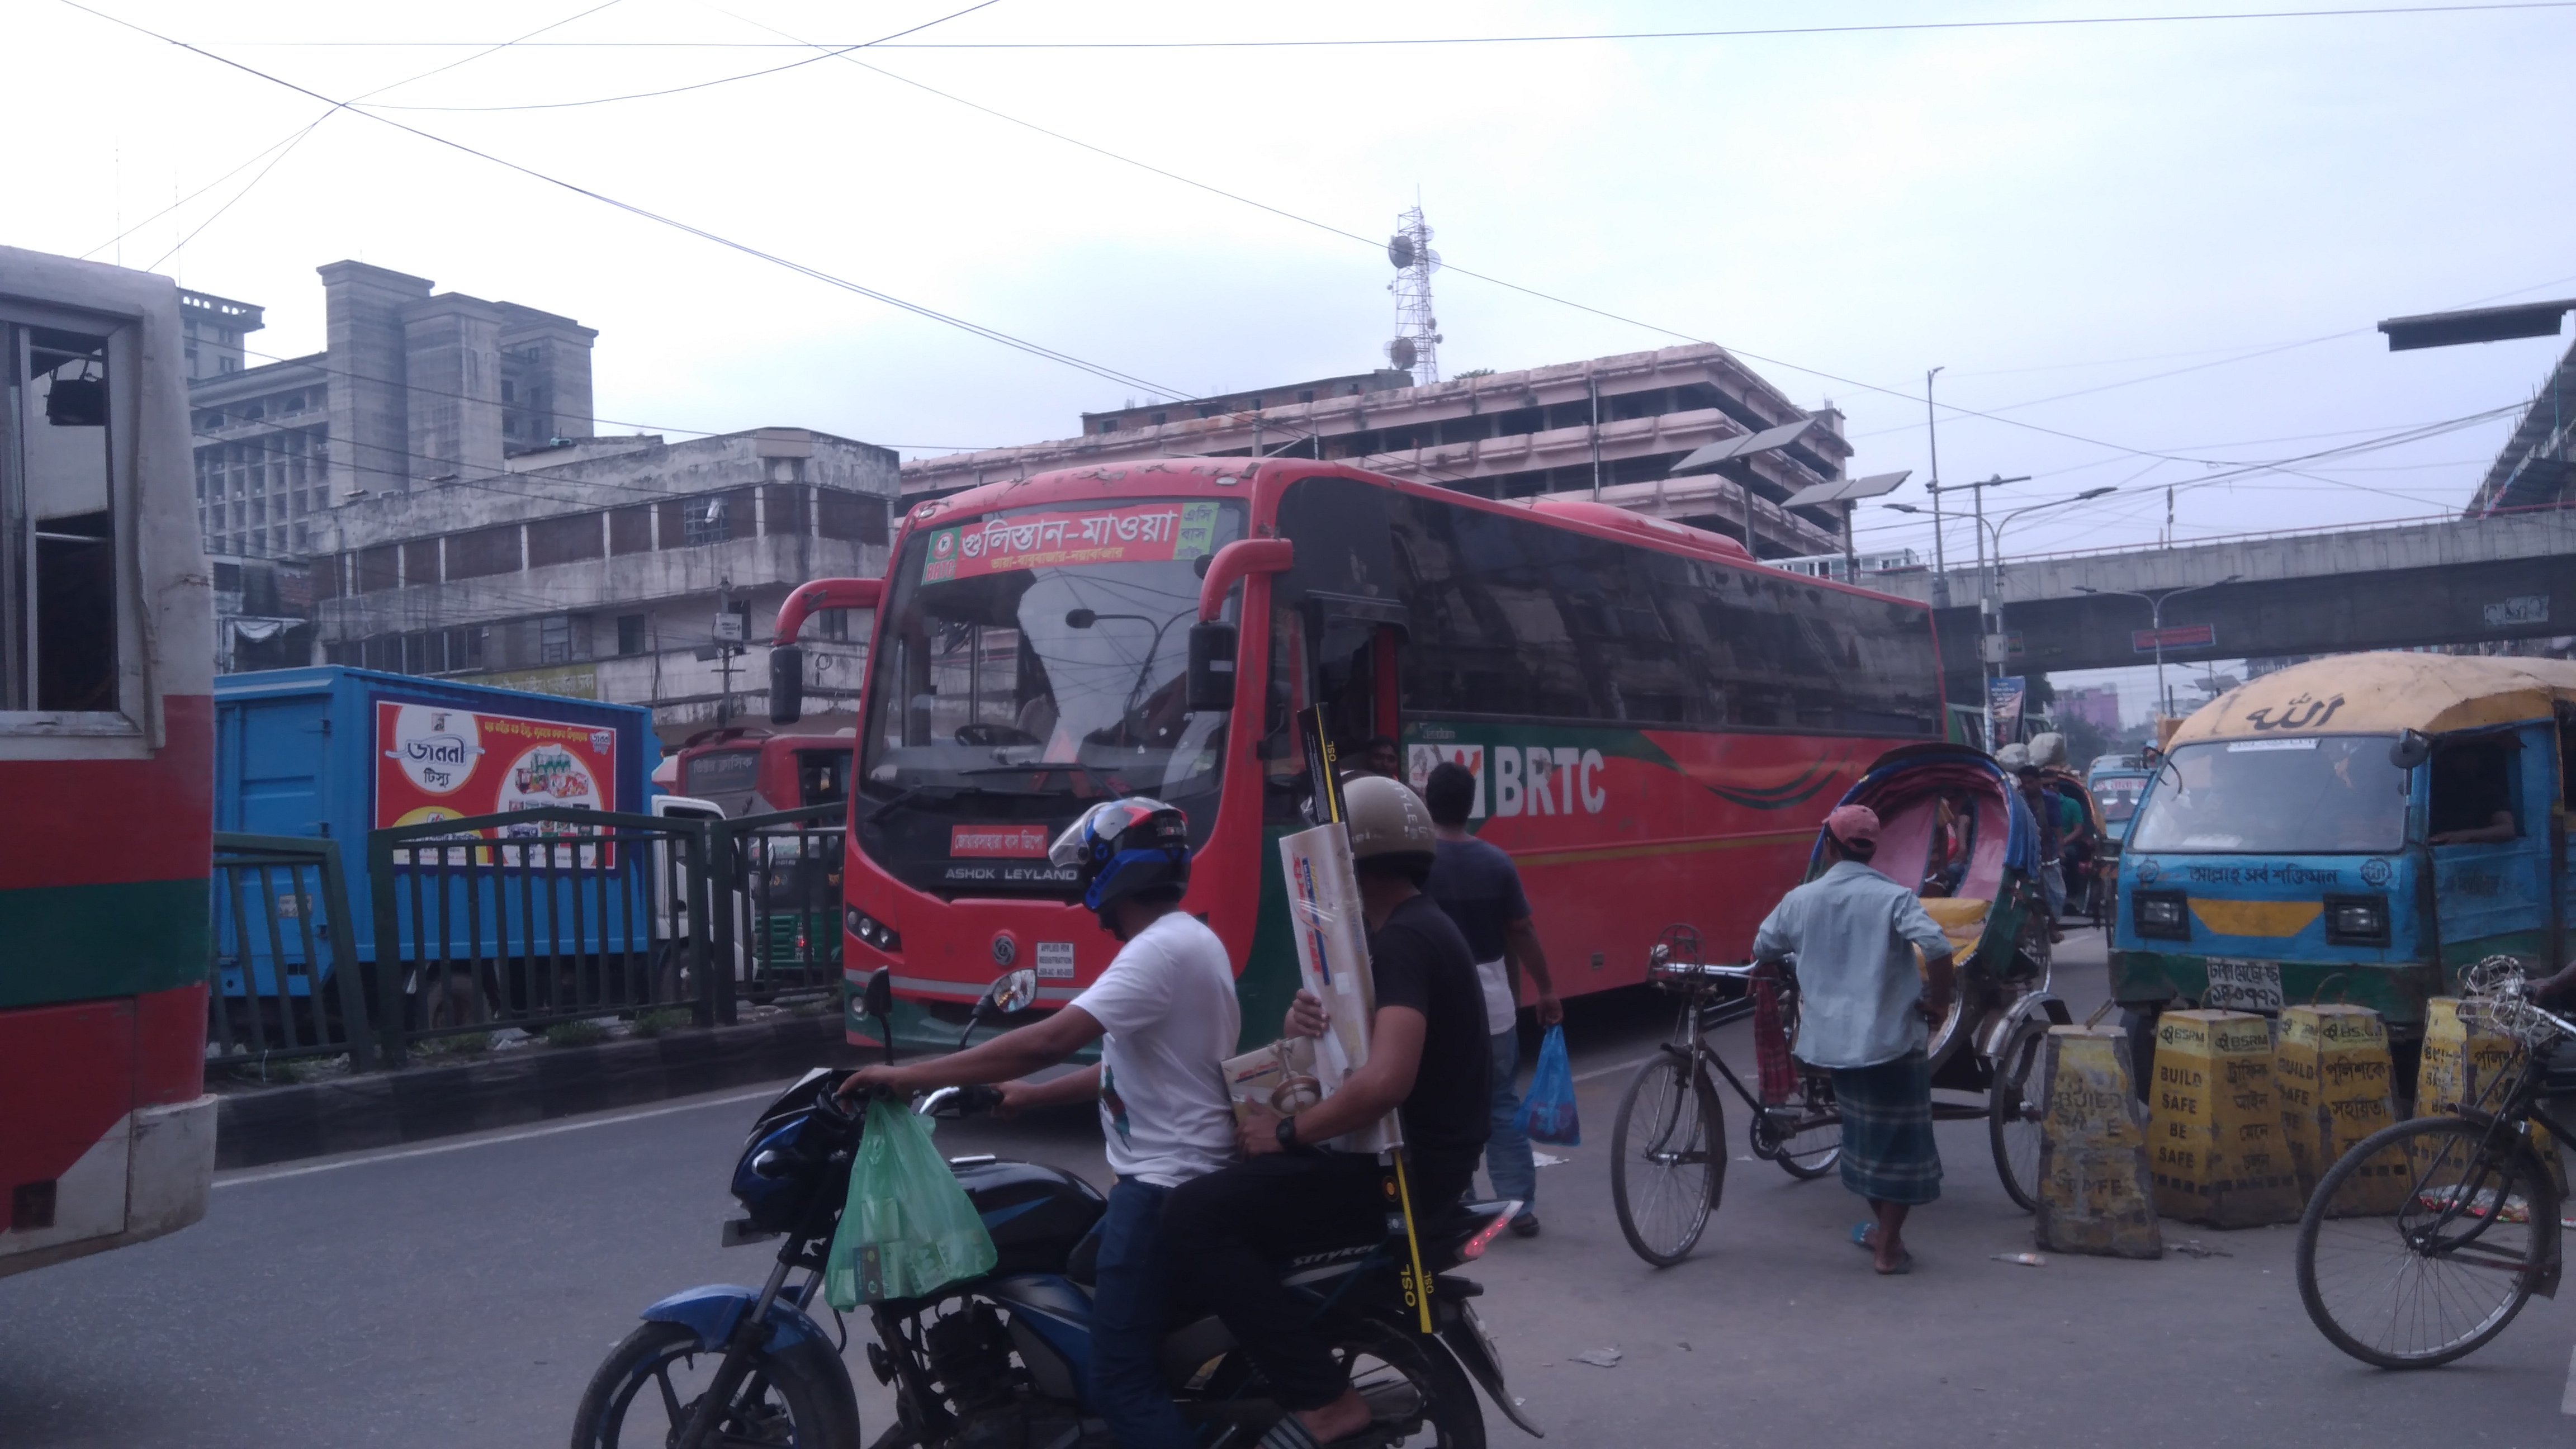bus: (770, 423, 1990, 1037), (0, 205, 244, 1270)
leguna: (2114, 646, 2576, 1042)
rickshaw: (1614, 743, 2088, 1276)
truck: (191, 617, 702, 1040)
